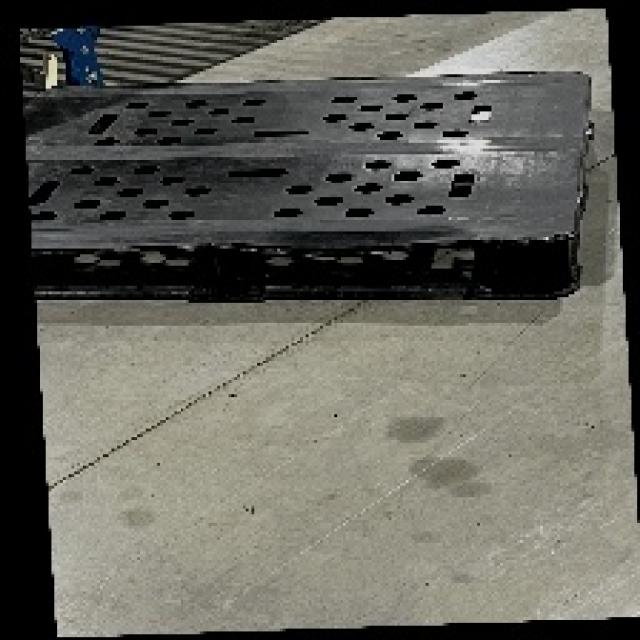igps: (21, 65, 599, 308)
